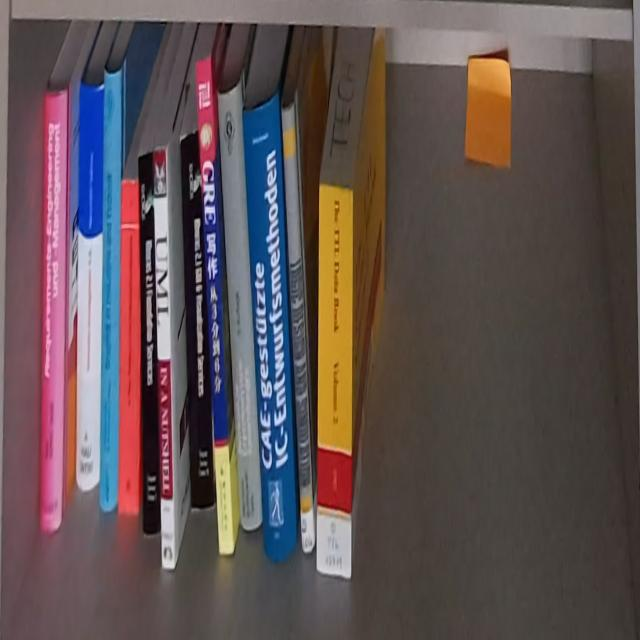Book Spine: (241, 95, 298, 560), (220, 74, 262, 536), (197, 53, 234, 559), (281, 101, 316, 556), (316, 181, 353, 581), (37, 84, 68, 531), (180, 129, 214, 510), (74, 78, 104, 494), (98, 65, 122, 515), (153, 152, 176, 574), (138, 154, 161, 537), (120, 177, 140, 516)
